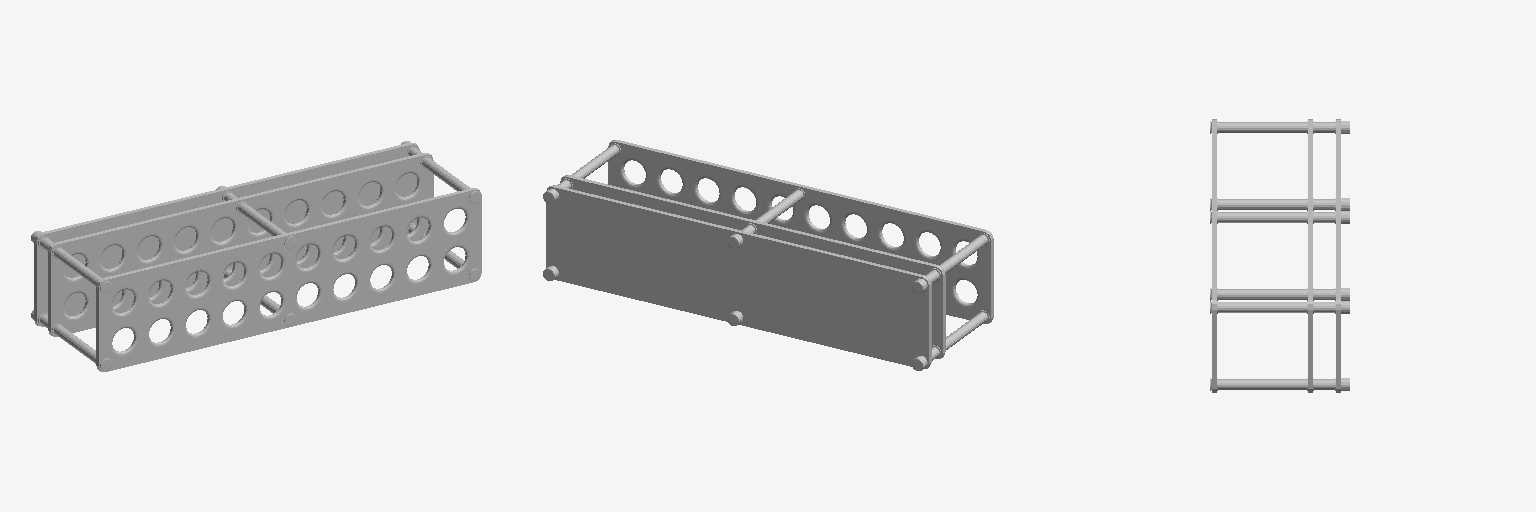
Rendered from test_tubes_stand.obj.
3 views of the same model, side by side, from view 1: azimuth 30°, elevation 25°; view 2: azimuth 150°, elevation 25°; view 3: azimuth 270°, elevation 25° (orthographic).
Parts seen in each view (by area): view 1: tubes_stand; view 2: tubes_stand; view 3: tubes_stand.
Boxes of the visible parts, x1,y1,x2,y2 form: tubes_stand: [31, 141, 481, 371]; tubes_stand: [543, 140, 993, 370]; tubes_stand: [1210, 119, 1349, 392].
Bounding box in the file's own units: 0.2824 × 0.065 × 0.0894.